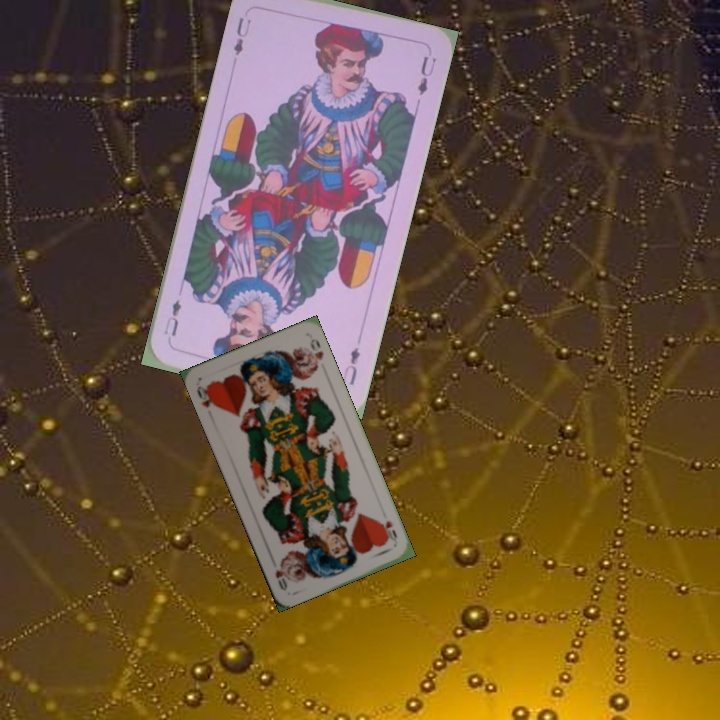EU: (337, 343, 363, 388), (229, 13, 254, 58)
HO: (192, 381, 219, 411), (376, 516, 400, 546)
